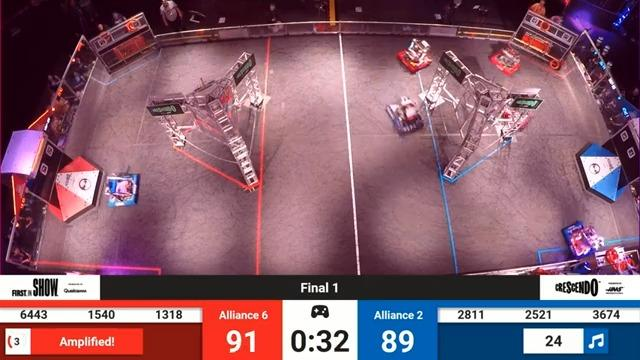robot: (554, 215, 601, 259), (384, 92, 423, 137), (105, 167, 141, 211), (494, 93, 536, 126), (399, 35, 436, 70), (491, 41, 526, 76)
